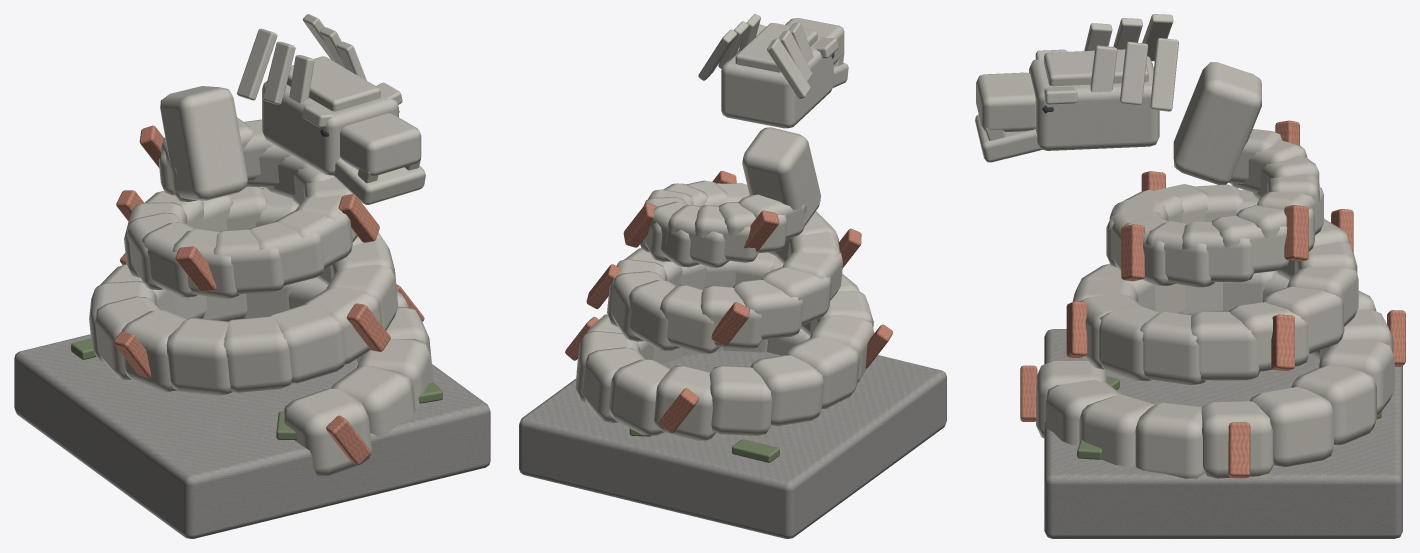
The model's file is jungle-temple-and-stone-city-serpent-statue-1082ca58__36130.glb.
The picture shows the model from 3 angles, left to right: view 1: azimuth 30°, elevation 25°; view 2: azimuth 150°, elevation 25°; view 3: azimuth 270°, elevation 25°; orthographic projection. The views are drawn at different scales.
Visible parts, largest first — view 1: serpent-statue; view 2: serpent-statue; view 3: serpent-statue.
Boxes of the visible parts, left/top/right/bottom form: serpent-statue: left=14, top=14, right=490, bottom=538; serpent-statue: left=519, top=14, right=946, bottom=538; serpent-statue: left=975, top=14, right=1405, bottom=538.
Bounding box in the file's own units: 1.84 × 2.33 × 2.04.
5 materials, 4 textured.
